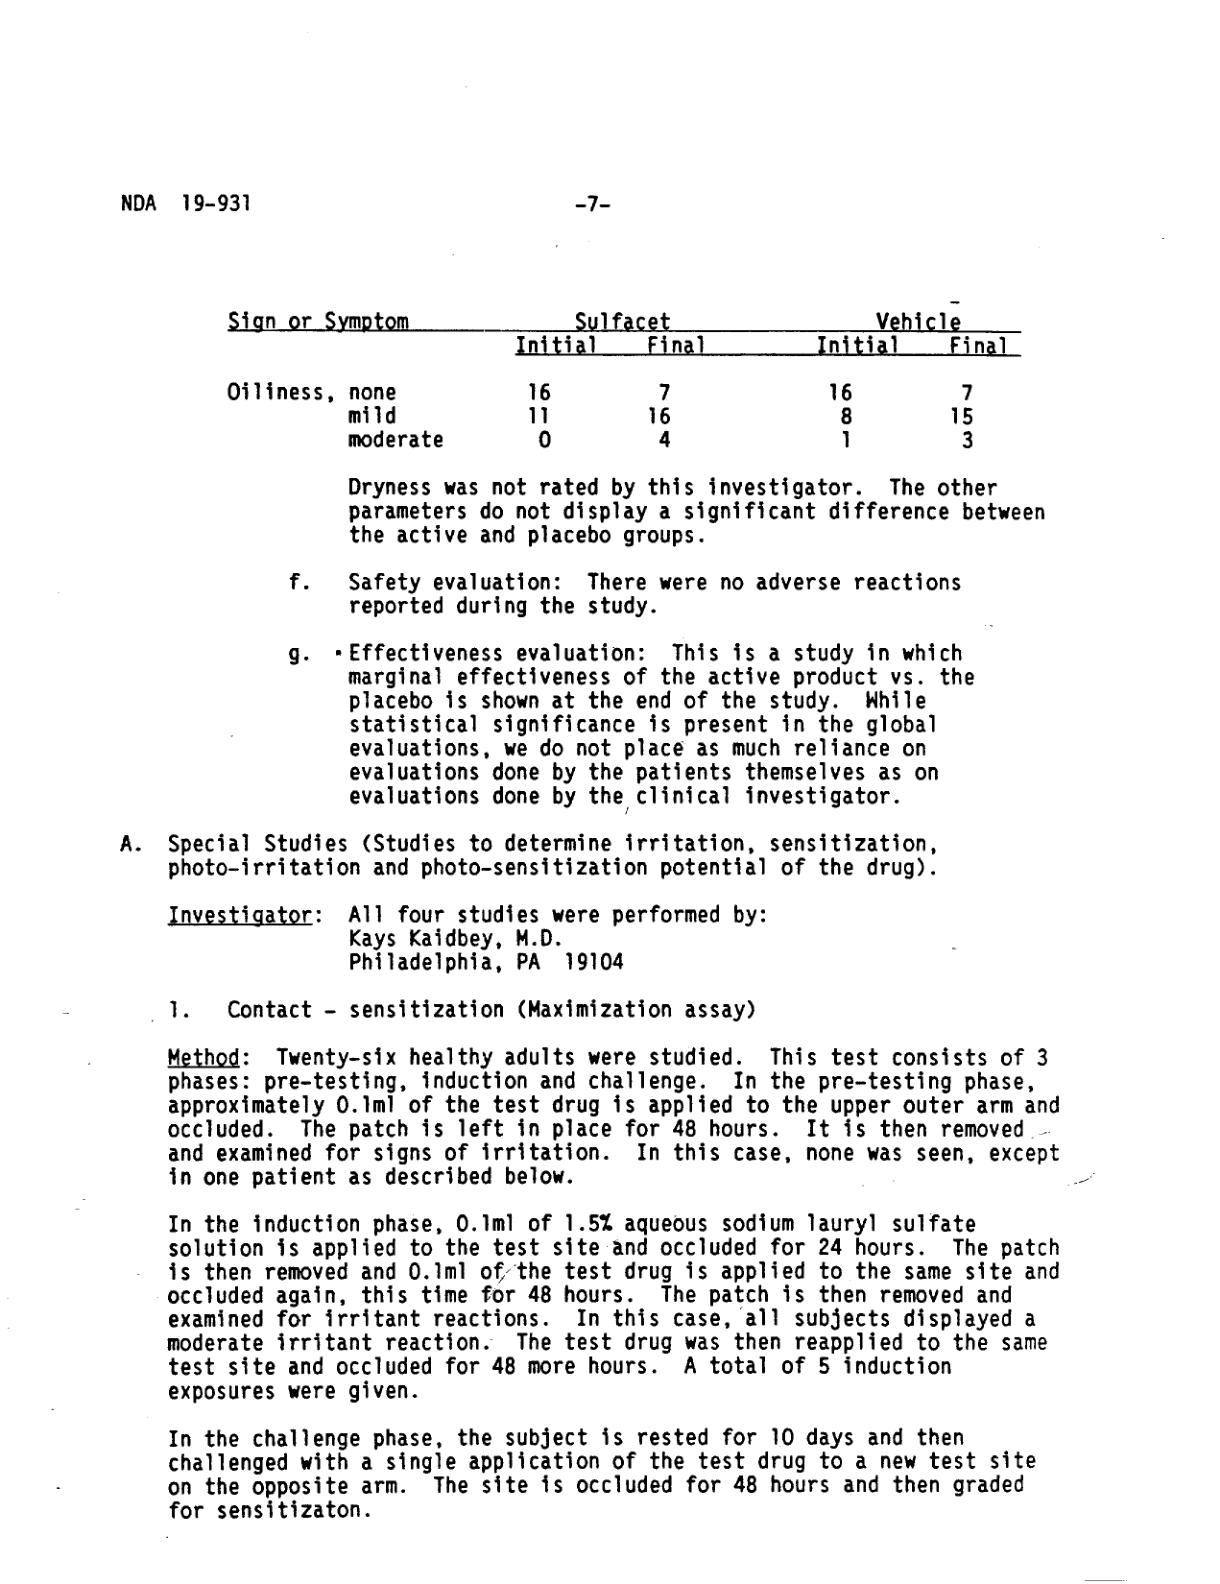partial_lined_merged_cells: (222, 302, 1023, 449)
